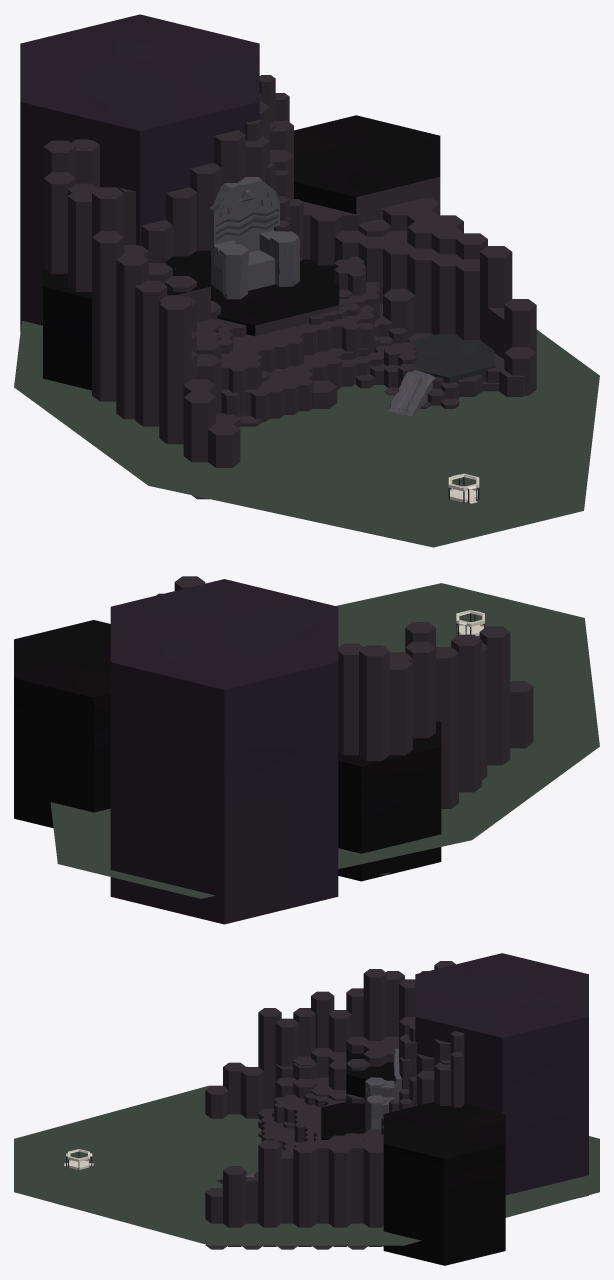
The model's file is ground1.0.gltf.
3 views of the same model, one above another, from view 1: azimuth 30°, elevation 25°; view 2: azimuth 150°, elevation 25°; view 3: azimuth 270°, elevation 25° (orthographic). The views are drawn at different scales.
Parts seen in each view (by area): view 1: floor start.002; view 2: floor start.002; view 3: floor start.002.
Boxes of the visible parts, x1,y1,x2,y2 form: floor start.002: (14,14,599,547); floor start.002: (14,576,599,924); floor start.002: (14,953,599,1265).
Bounding box in the file's own units: 162 × 84.42 × 250.
1 material, 1 textured.
